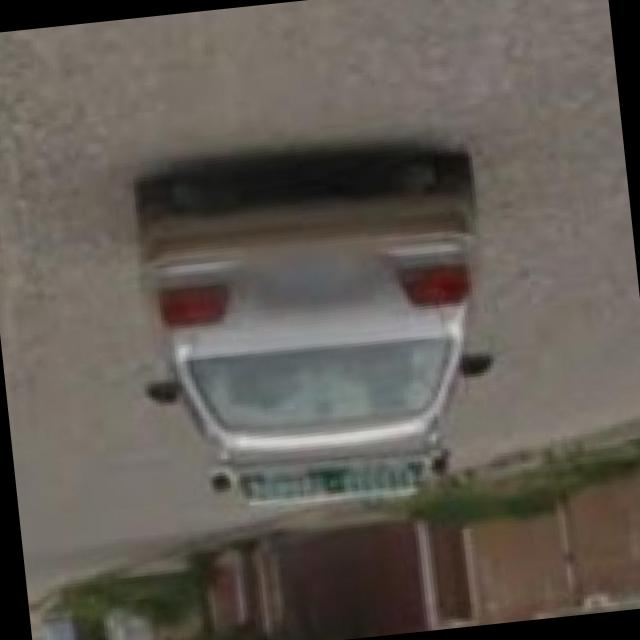car: (120, 147, 506, 516)
